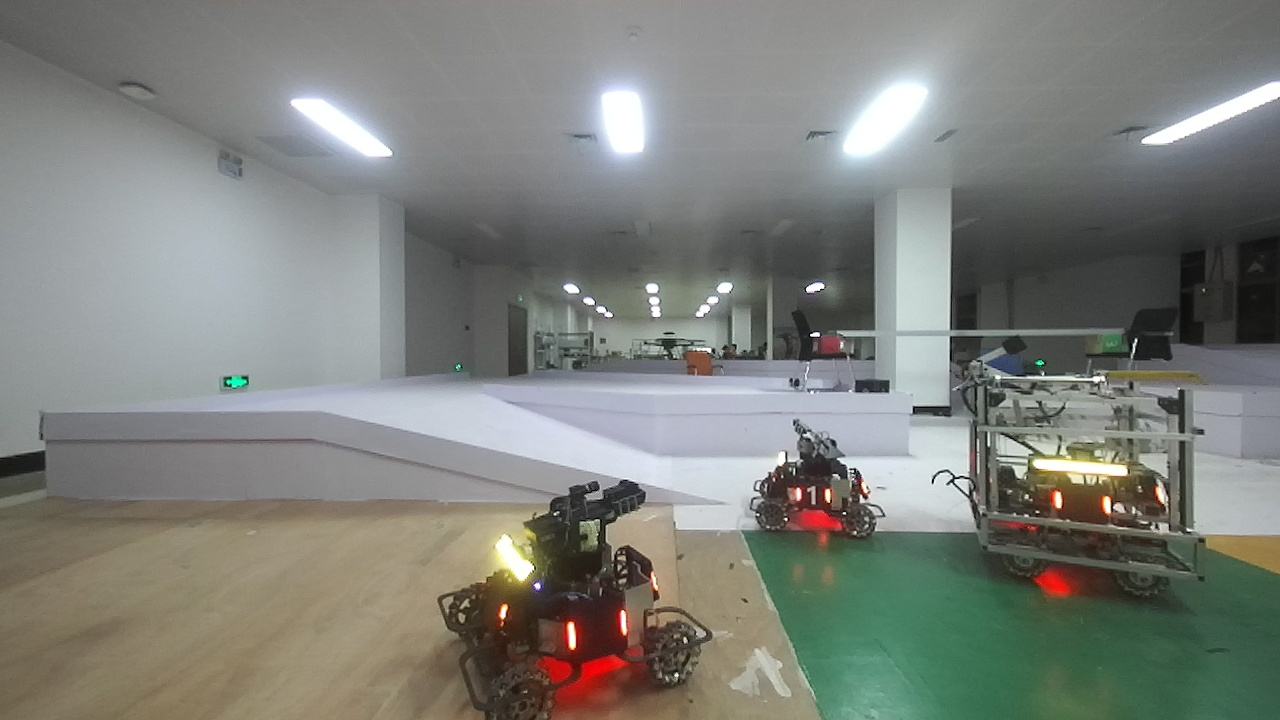car: (953, 333, 1223, 601), (462, 481, 688, 704), (786, 409, 883, 556)
